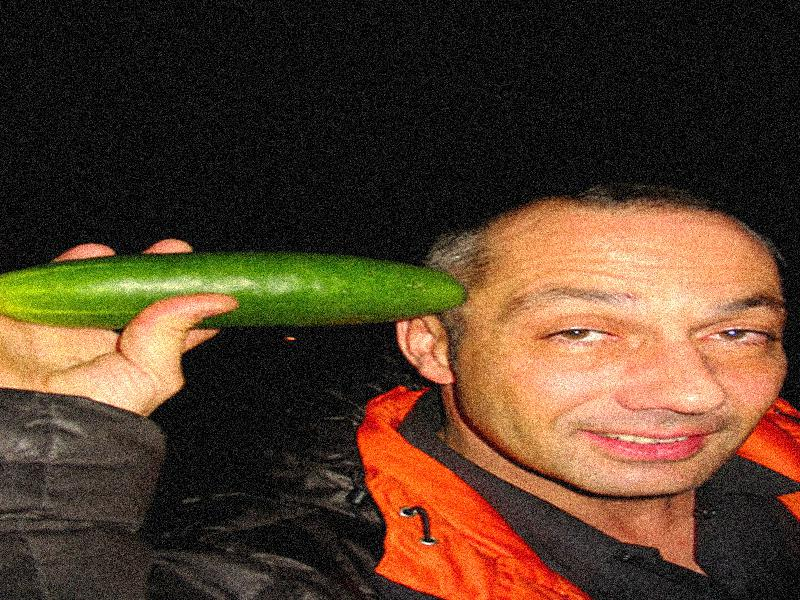Cucumber: (2, 253, 469, 328)
